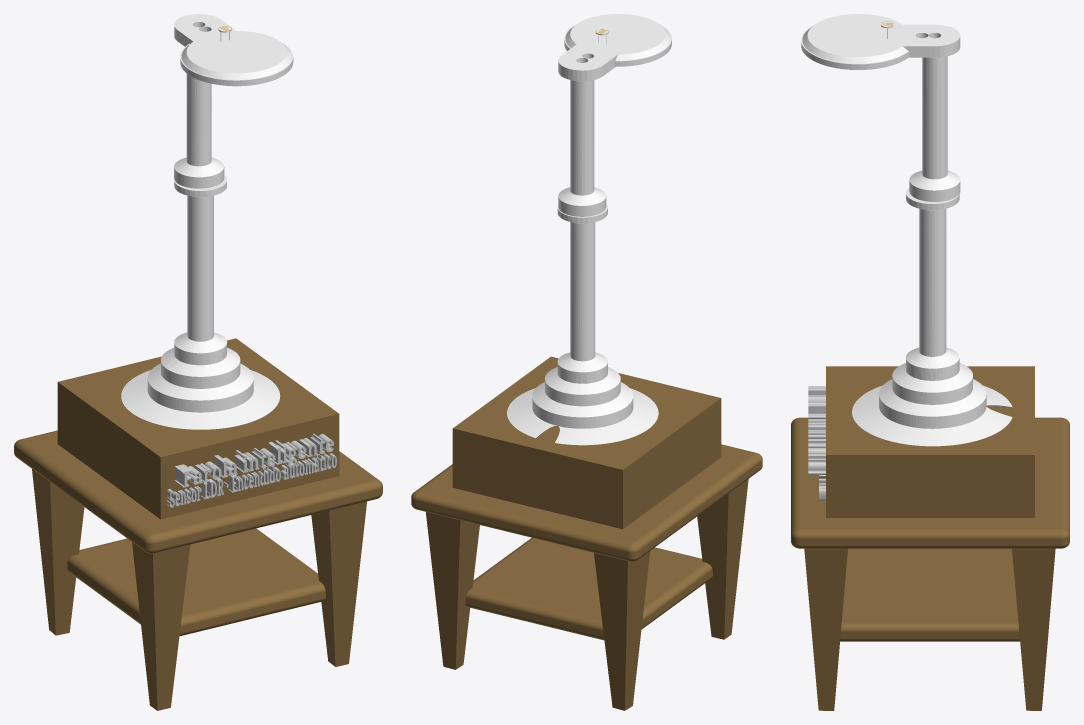
Rendered from farola.glb.
The picture shows the model from 3 angles, left to right: view 1: azimuth 30°, elevation 25°; view 2: azimuth 150°, elevation 25°; view 3: azimuth 270°, elevation 25°; orthographic projection. The views are drawn at different scales.
Parts seen in each view (by area): view 1: Mesh_Mesh_head_geo.001_lambert2SG.001, Mesh_Mesh_head_geo.001_lambert2SG.002; view 2: Mesh_Mesh_head_geo.001_lambert2SG.001, Mesh_Mesh_head_geo.001_lambert2SG.002; view 3: Mesh_Mesh_head_geo.001_lambert2SG.001, Mesh_Mesh_head_geo.001_lambert2SG.002.
Part boxes in pixels (left/top/right/bottom): Mesh_Mesh_head_geo.001_lambert2SG.001: left=14, top=338, right=382, bottom=710; Mesh_Mesh_head_geo.001_lambert2SG.002: left=121, top=14, right=293, bottom=429; Mesh_Mesh_head_geo.001_lambert2SG.001: left=411, top=356, right=762, bottom=710; Mesh_Mesh_head_geo.001_lambert2SG.002: left=507, top=14, right=671, bottom=445; Mesh_Mesh_head_geo.001_lambert2SG.001: left=791, top=366, right=1069, bottom=710; Mesh_Mesh_head_geo.001_lambert2SG.002: left=801, top=14, right=1012, bottom=446.
Size of the model in its own units: 2.86 by 7.27 by 2.86.
